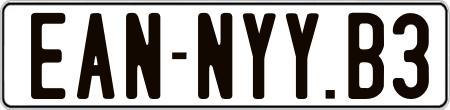3: (390, 10, 427, 100)
A: (75, 11, 119, 98)
B: (345, 13, 382, 103)
E: (30, 12, 66, 99)
N: (197, 12, 236, 100), (123, 12, 160, 102)
Y: (285, 13, 322, 104), (243, 10, 276, 99)
